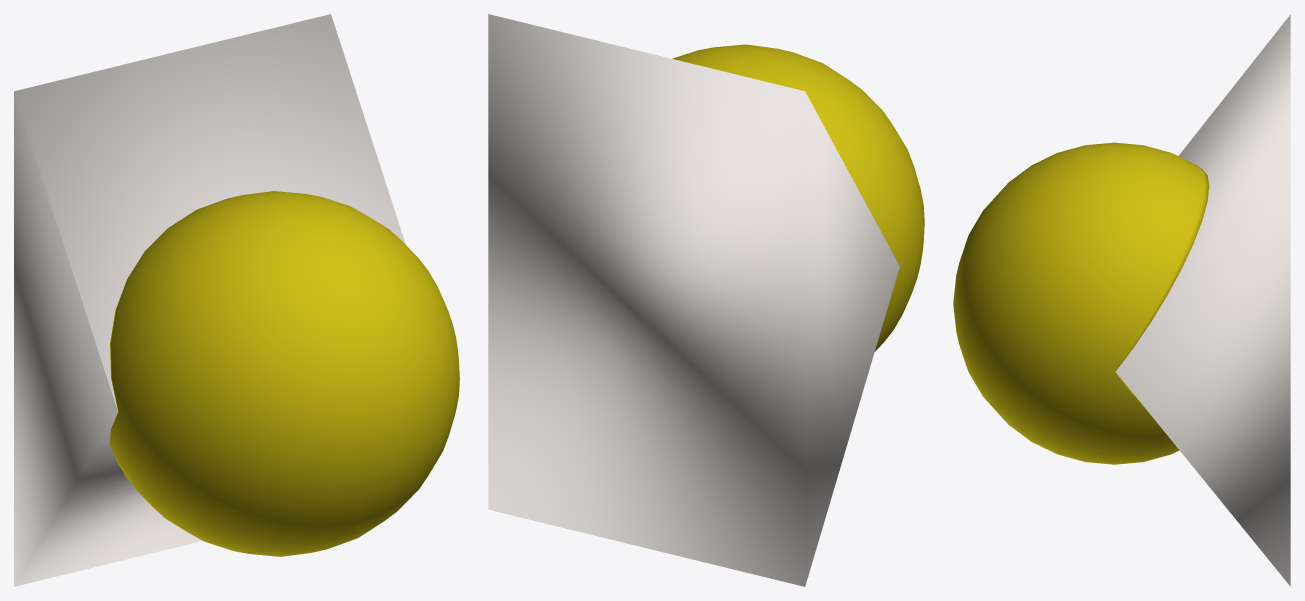
File: pac-man.fbx
3 renders of one model, left to right at view 1: azimuth 30°, elevation 25°; view 2: azimuth 150°, elevation 25°; view 3: azimuth 270°, elevation 25°, orthographic. The views are drawn at different scales.
Parts seen in each view (by area): view 1: pac-man, 立方体; view 2: 立方体, pac-man; view 3: pac-man, 立方体.
Boxes of the visible parts, x1,y1,x2,y2 form: pac-man: [110, 191, 459, 556]; 立方体: [14, 14, 405, 586]; 立方体: [488, 14, 899, 586]; pac-man: [672, 44, 924, 351]; pac-man: [953, 142, 1209, 464]; 立方体: [1115, 14, 1290, 586].
Size of the model in its own units: 203 by 299 by 209.
